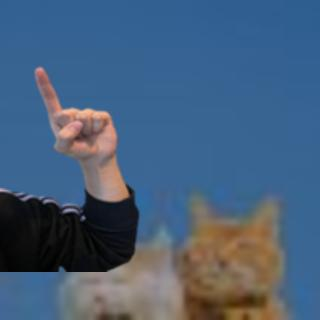IRRITATED: (30, 64, 122, 160)
